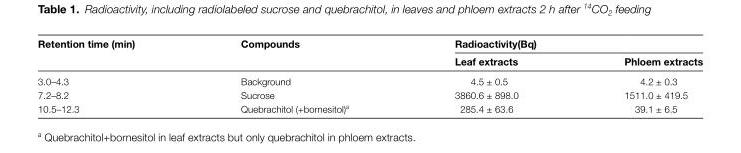table: (36, 36, 702, 113)
table column: (187, 36, 401, 113), (401, 36, 570, 113), (36, 36, 187, 113), (570, 36, 702, 113)
table column header: (36, 36, 702, 70)
table row: (36, 51, 702, 70), (36, 70, 702, 87), (36, 36, 702, 51), (36, 87, 702, 101), (36, 101, 702, 113)
table spanning cell: (187, 36, 401, 70), (36, 36, 187, 70), (401, 36, 702, 51)
